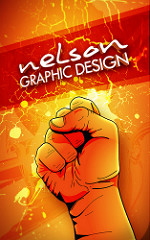fist: (29, 96, 127, 194)
